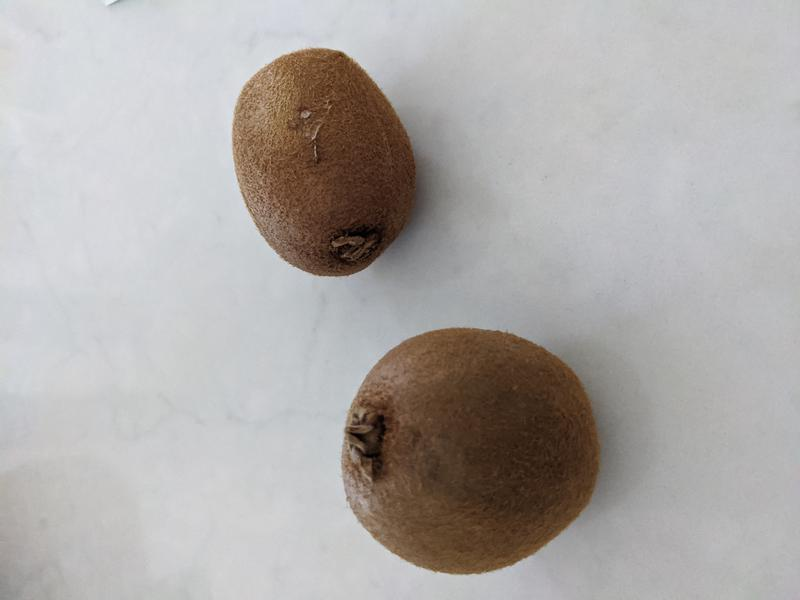kiwi: (342, 326, 601, 575), (231, 48, 418, 277)
